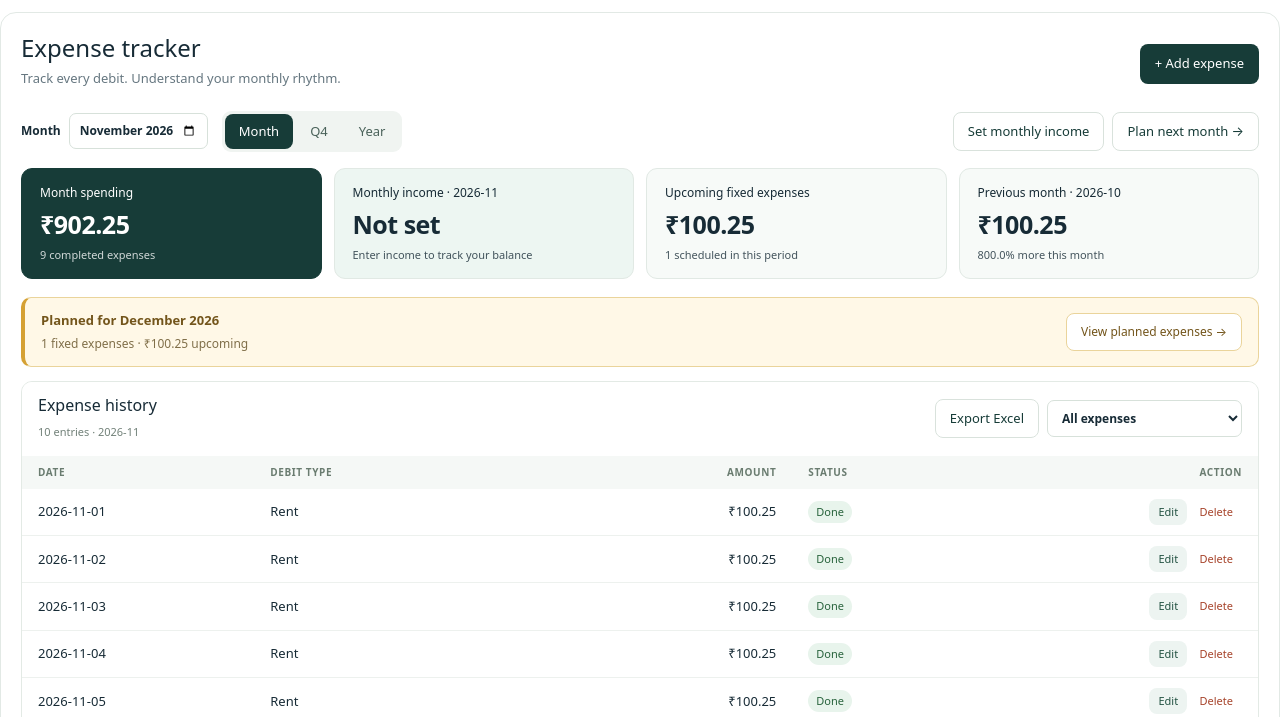
Test: shows an export error and allows retry
The image size is (1280, 717).
Click the button "Export Excel".
click(987, 419)  # box [935,399,1039,438]
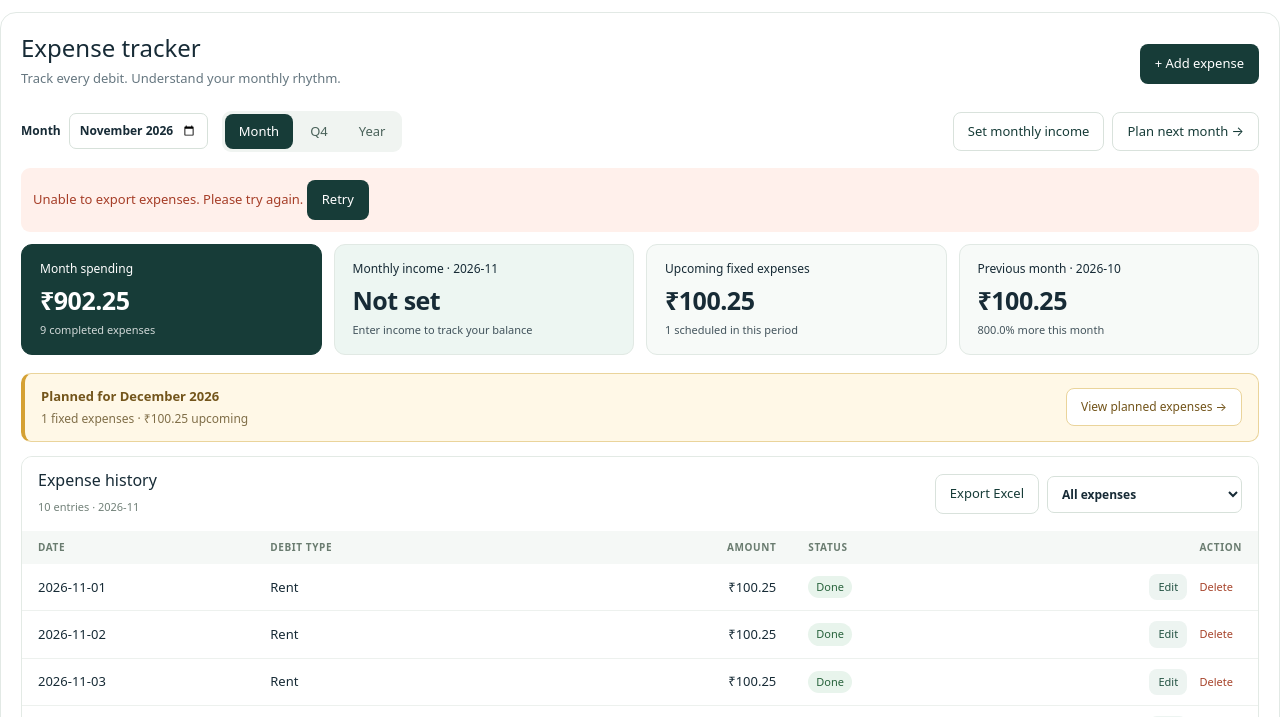
Expected: the button "Export Excel" is enabled, [935,474,1039,514]
Expected: the message shows "Unable to export expenses. Please try again.", [33,190,303,208]
